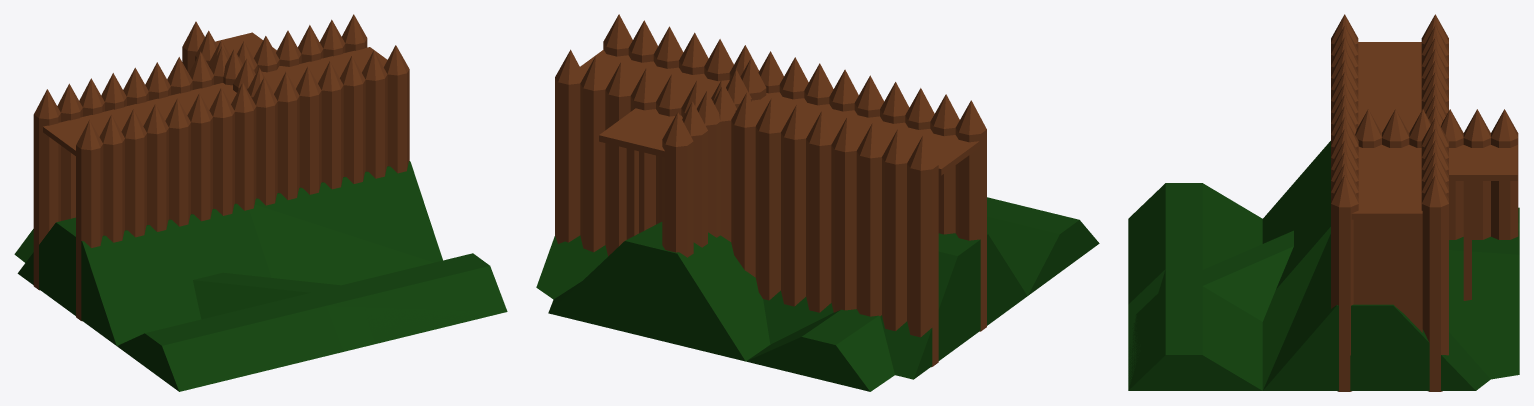
Rendered from Wall - Wood.fbx.
3 views of the same model, side by side, from view 1: azimuth 30°, elevation 25°; view 2: azimuth 150°, elevation 25°; view 3: azimuth 270°, elevation 25° (orthographic). The views are drawn at different scales.
Parts seen in each view (by area): view 1: Palisade, Rampart_003, Ditch_Wall_003, Fortification_Wall, Ditch_Wall_009, Rampart_011, Ditch_Wall_010, Walkway_002, Walkway, Palisade_001, Walkway_001; view 2: Fortification_Wall, Rampart_010, Palisade_001, Palisade, Rampart_003, Ditch_Wall_009, Walkway, Ditch_Wall_003, Walkway_001, Walkway_002; view 3: Rampart_010, Ditch_Wall_009, Ditch_Wall_003, Walkway, Fortification_Wall, Palisade_001, Rampart_003, Walkway_001, Palisade, Walkway_002, Ditch_Wall_010, Rampart_011.
Part boxes in pixels (x1,y1,x2,y2): Palisade: (76, 45, 409, 321); Rampart_003: (17, 203, 433, 345); Ditch_Wall_003: (117, 293, 506, 391); Fortification_Wall: (33, 14, 367, 290); Ditch_Wall_009: (14, 229, 507, 343); Rampart_011: (254, 161, 442, 262); Ditch_Wall_010: (309, 254, 506, 311); Walkway_002: (44, 47, 386, 149); Walkway: (43, 47, 386, 155); Palisade_001: (182, 21, 395, 100); Walkway_001: (215, 32, 387, 90); Fortification_Wall: (555, 49, 938, 367); Rampart_010: (536, 222, 770, 361); Palisade_001: (603, 14, 766, 257); Palisade: (619, 14, 986, 331); Rampart_003: (763, 233, 1027, 379); Ditch_Wall_009: (746, 309, 894, 391); Walkway: (581, 51, 979, 175); Ditch_Wall_003: (987, 197, 1099, 295); Walkway_001: (580, 50, 729, 239); Walkway_002: (580, 50, 975, 174); Rampart_010: (1263, 230, 1519, 390); Ditch_Wall_009: (1128, 207, 1519, 390); Ditch_Wall_003: (1128, 183, 1262, 390); Walkway: (1353, 42, 1422, 332); Fortification_Wall: (1421, 14, 1448, 391); Palisade_001: (1345, 109, 1518, 355); Rampart_003: (1262, 141, 1471, 390); Walkway_001: (1351, 145, 1517, 300); Palisade: (1331, 14, 1358, 391); Walkway_002: (1352, 42, 1422, 213); Ditch_Wall_010: (1129, 269, 1262, 389); Rampart_011: (1263, 234, 1394, 390).
Size of the model in its own units: 10 by 5.73 by 9.61.
